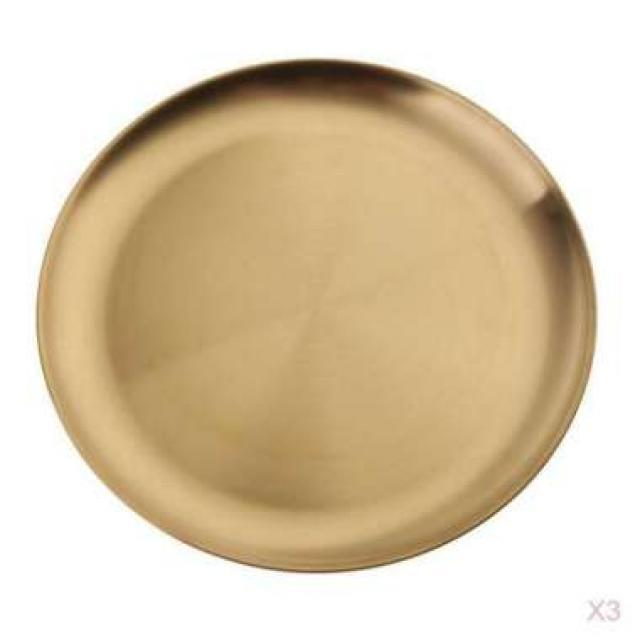plate: (15, 40, 604, 587)
